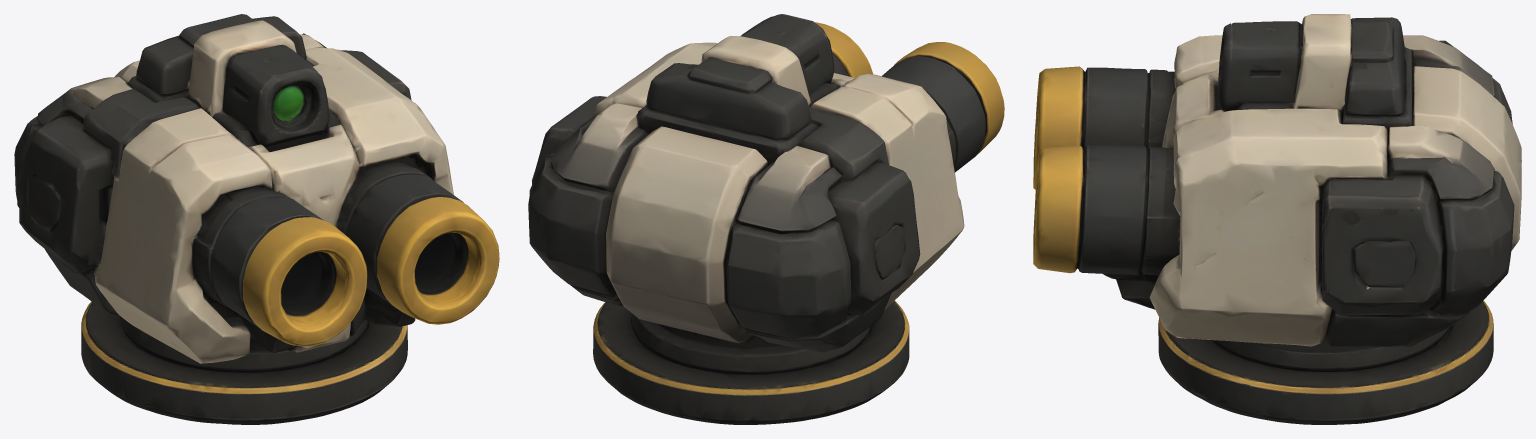
Rendered from scatter.glb.
3 renders of one model, left to right at view 1: azimuth 30°, elevation 25°; view 2: azimuth 150°, elevation 25°; view 3: azimuth 270°, elevation 25°, orthographic. The views are drawn at different scales.
Visible parts, largest first — view 1: tripo_node_bacec19f-29f8-4eaa-97de-a814b48bfa7e; view 2: tripo_node_bacec19f-29f8-4eaa-97de-a814b48bfa7e; view 3: tripo_node_bacec19f-29f8-4eaa-97de-a814b48bfa7e.
Boxes of the visible parts, x1,y1,x2,y2 form: tripo_node_bacec19f-29f8-4eaa-97de-a814b48bfa7e: (14, 14, 499, 424); tripo_node_bacec19f-29f8-4eaa-97de-a814b48bfa7e: (528, 14, 1004, 424); tripo_node_bacec19f-29f8-4eaa-97de-a814b48bfa7e: (1033, 14, 1521, 424).
Bounding box in the file's own units: 0.8454 × 0.748 × 1.
1 material, 1 textured.
